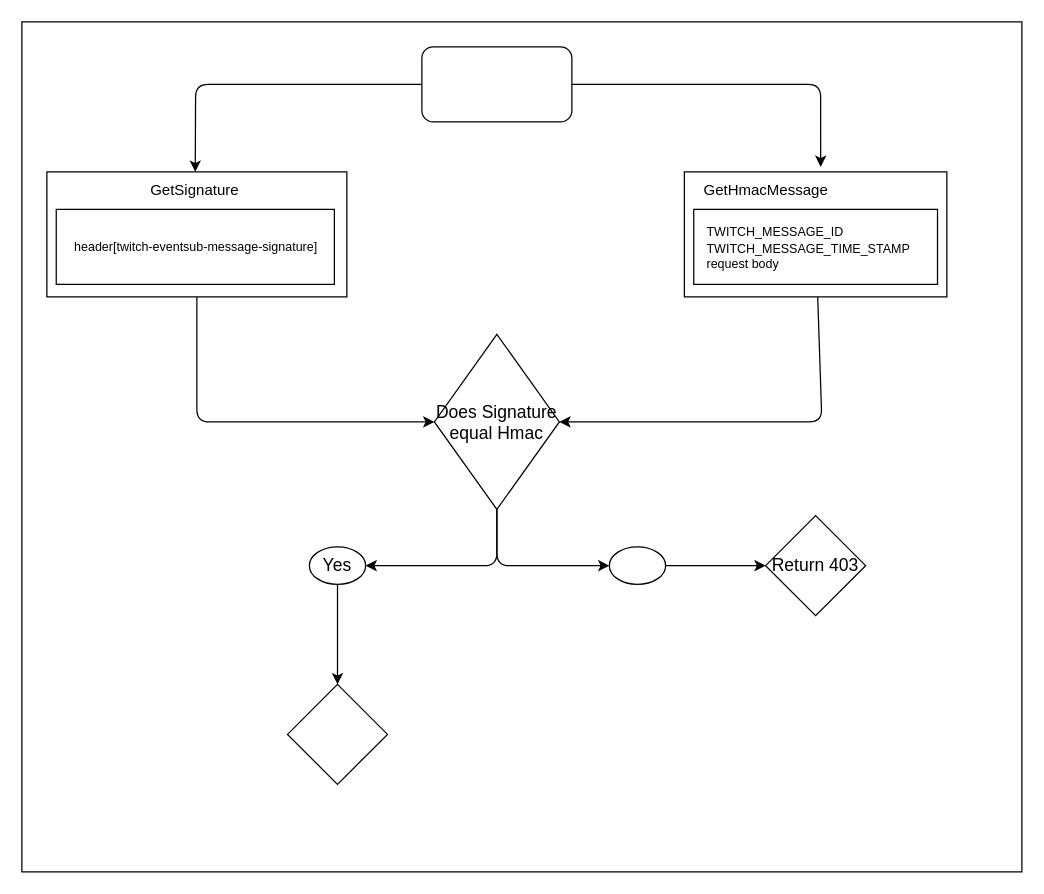
This 1044x894 diagram has some shape labels left out. Each missing label, with the box of its shape:
Continue: (286, 683, 388, 784)
No: (608, 546, 666, 584)
Request: (421, 46, 572, 122)
